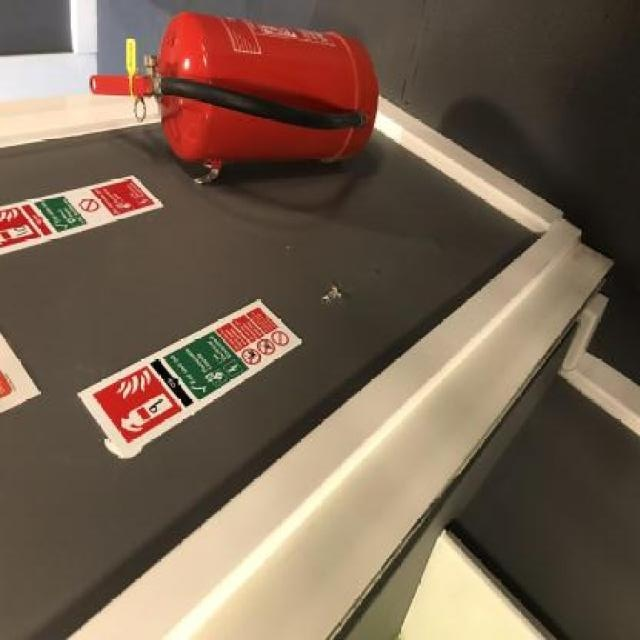fire extinguisher: (89, 8, 378, 166)
